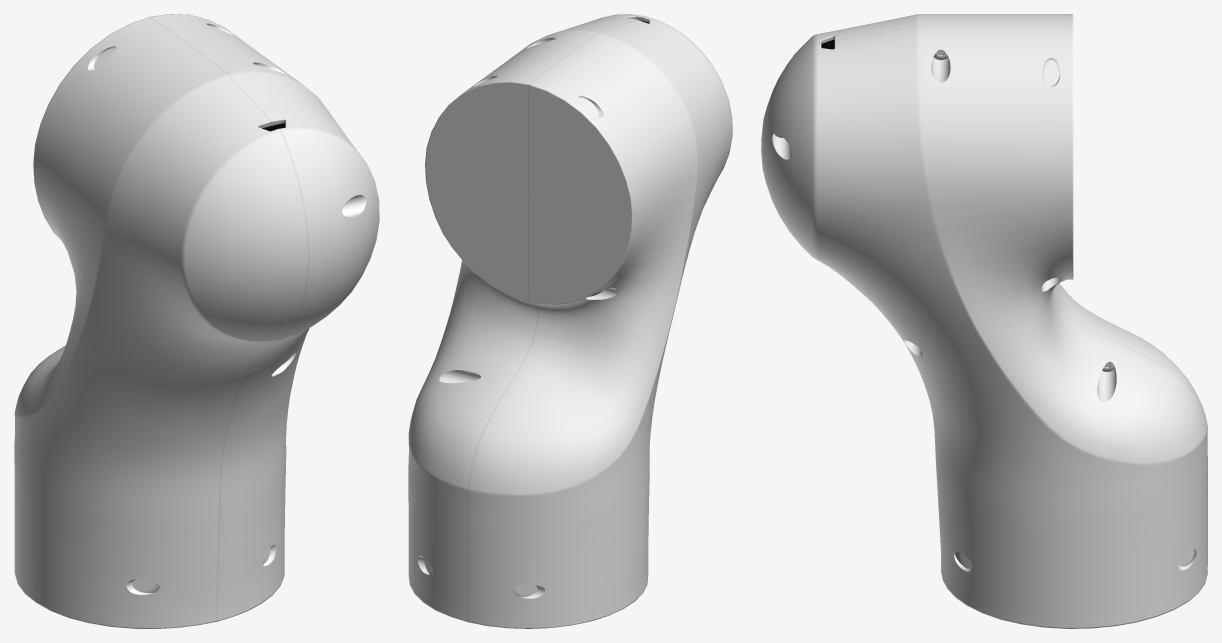
3 views of the same model, side by side, from view 1: azimuth 30°, elevation 25°; view 2: azimuth 150°, elevation 25°; view 3: azimuth 270°, elevation 25° (orthographic). The views are drawn at different scales.
Visible parts, largest first — view 1: link2; view 2: link2; view 3: link2.
Boxes of the visible parts, bbox=[...] form: link2: bbox=[14, 14, 379, 628]; link2: bbox=[408, 14, 732, 628]; link2: bbox=[761, 14, 1207, 628].
Size of the model in its own units: 0.11 by 0.249 by 0.1842.
Materials: 1 (1 with a texture image).
